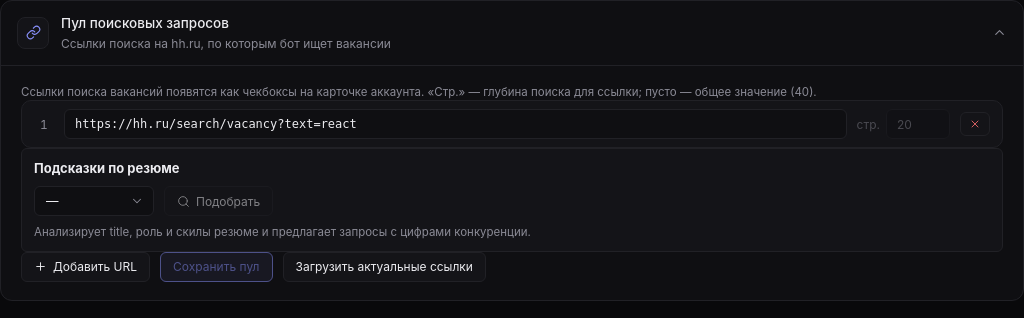
Scenario: rejected or unconfirmed pool save keeps the editable draft
Step 1. Replace the text in the field with placeholder "https://hh.ru/search/vacancy?…" with "https://hh.ru/search/vacancy?text=next" → (455, 124), box [64,109,847,139]
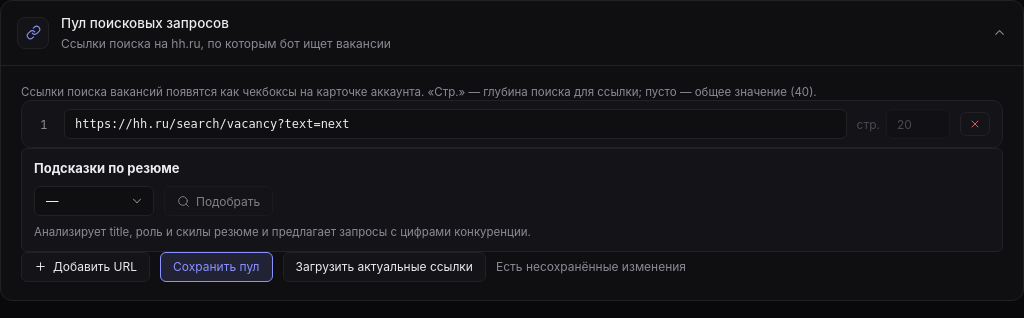
Step 2. Click the button "Сохранить пул" → (216, 267), box [160,252,272,282]
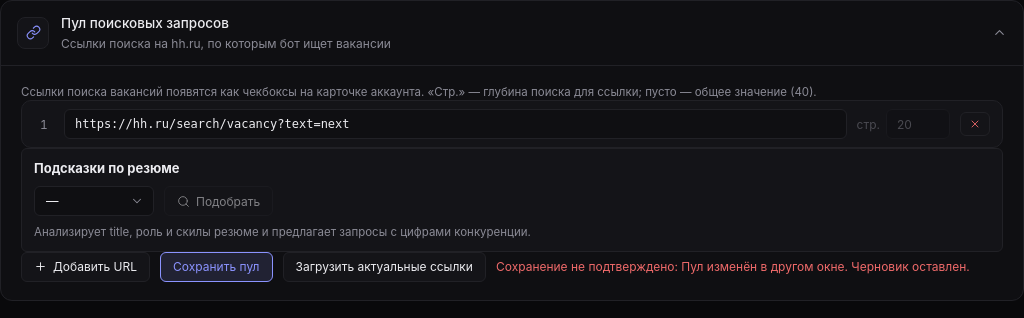
expect the text "Сохранение не подтверждено: Пул изменён в другом окне. Черновик оставлен." is shown: met, box [496,258,970,276]
